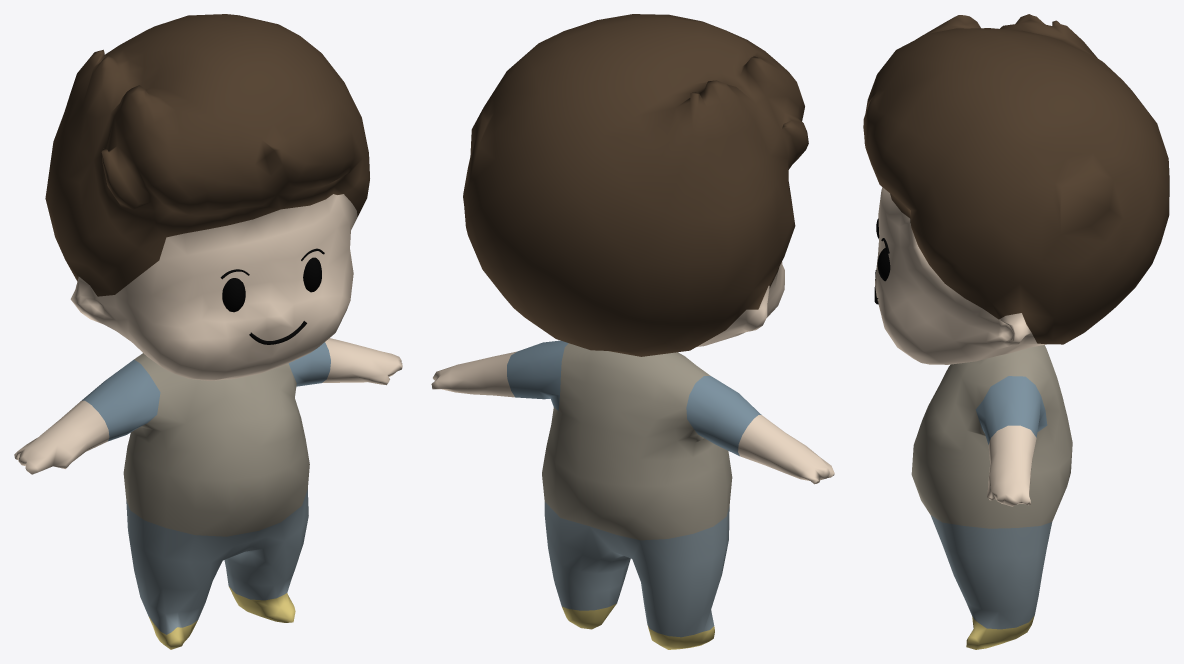
The model's file is Psj_Scott.fbx.
3 views of the same model, side by side, from view 1: azimuth 30°, elevation 25°; view 2: azimuth 150°, elevation 25°; view 3: azimuth 270°, elevation 25° (orthographic). The views are drawn at different scales.
Parts seen in each view (by area): view 1: Personaje_Scott; view 2: Personaje_Scott; view 3: Personaje_Scott.
Part boxes in pixels (box(x1,y1,x2,y2)): Personaje_Scott: box(14, 14, 402, 649); Personaje_Scott: box(431, 14, 834, 649); Personaje_Scott: box(863, 14, 1169, 649).
Bounding box in the file's own units: 1.91 × 2.83 × 1.36.
